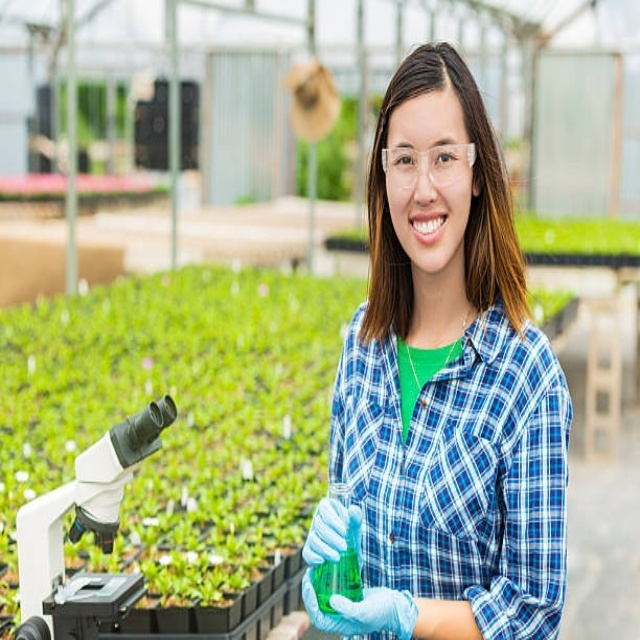Gafas: (381, 142, 478, 188)
Guantes: (325, 582, 417, 640), (303, 492, 361, 569)
Sin_mascara: (404, 205, 454, 254)
